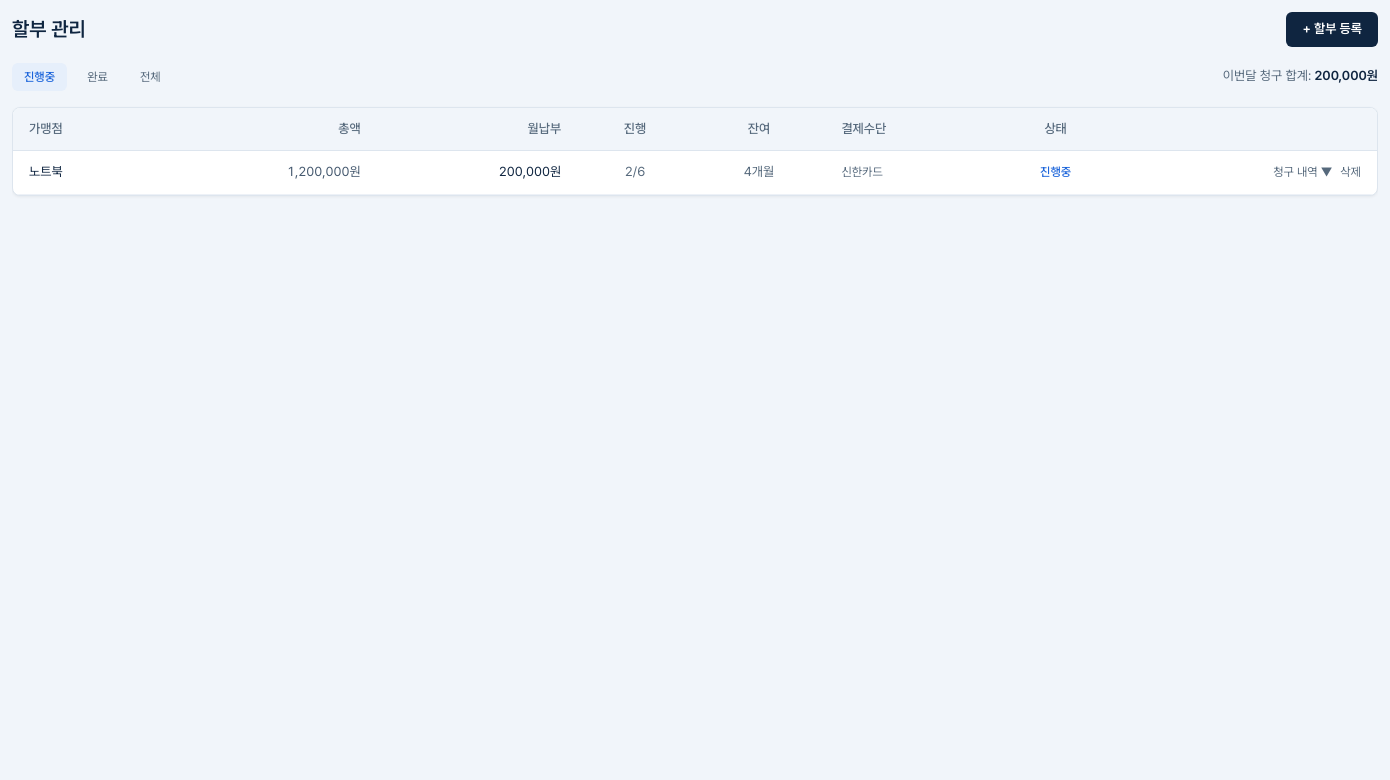
Test: 청구 시작월 자동 계산 › 주기를 모르면 구매일의 달로 두고 확인을 요청한다
This screenshot has width=1390, height=780.
Click the button "+ 할부 등록" at x=1332, y=29, box [1286, 12, 1378, 47]
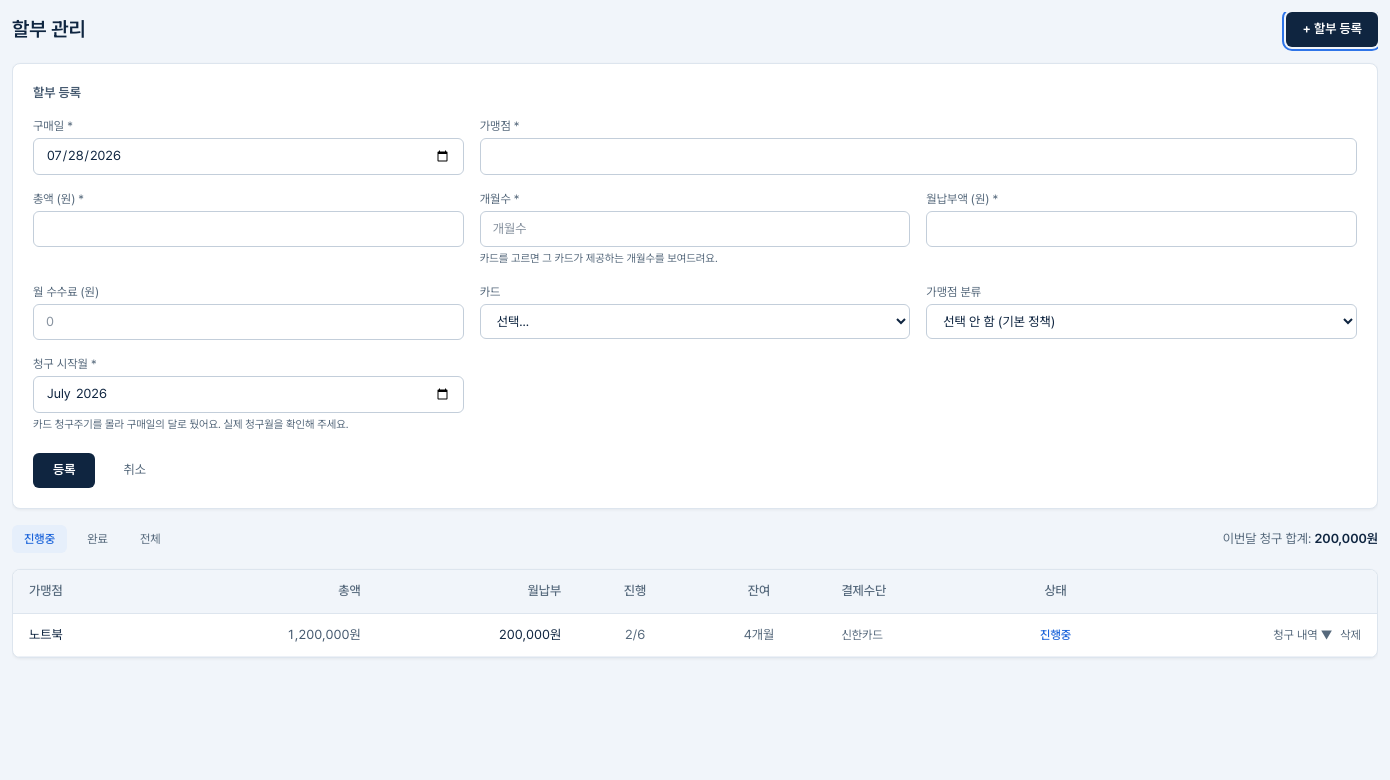
Check: the text "카드 청구주기를 몰라 구매일의 달로 뒀어요. 실제 청구월을 확인해 주세요." is shown, box [33, 418, 349, 431]
